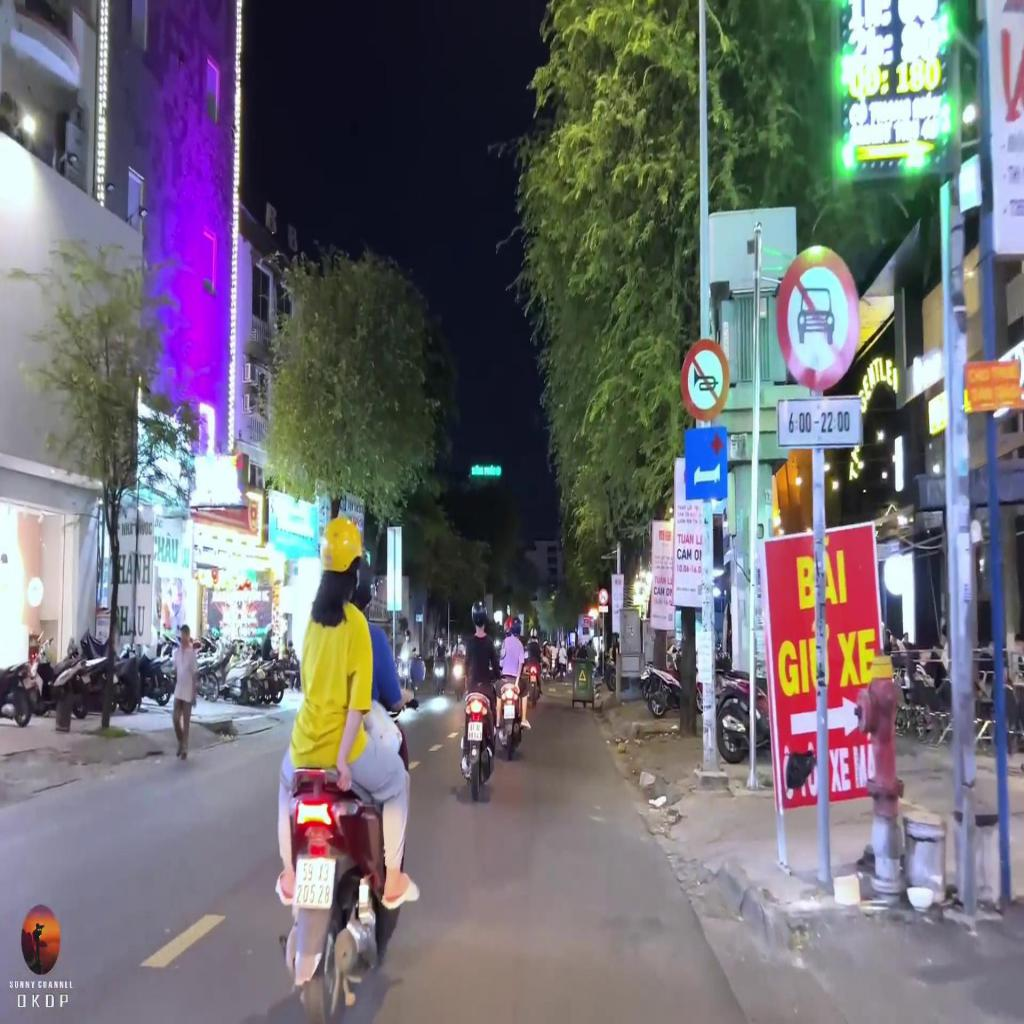cam_o_to: (777, 248, 859, 392), (598, 589, 608, 605)
cam_su_dung_coi: (680, 337, 730, 420)
khac: (778, 397, 863, 447), (684, 428, 728, 500)
